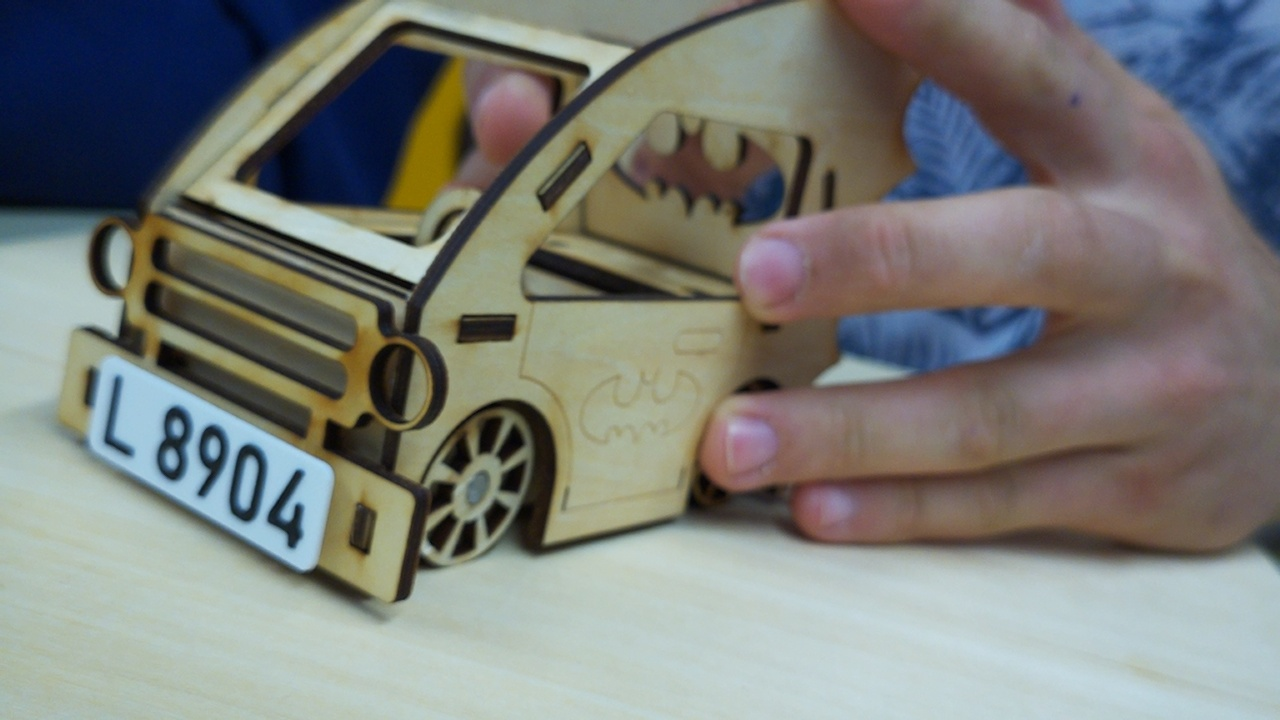license_plate: (86, 350, 339, 573)
